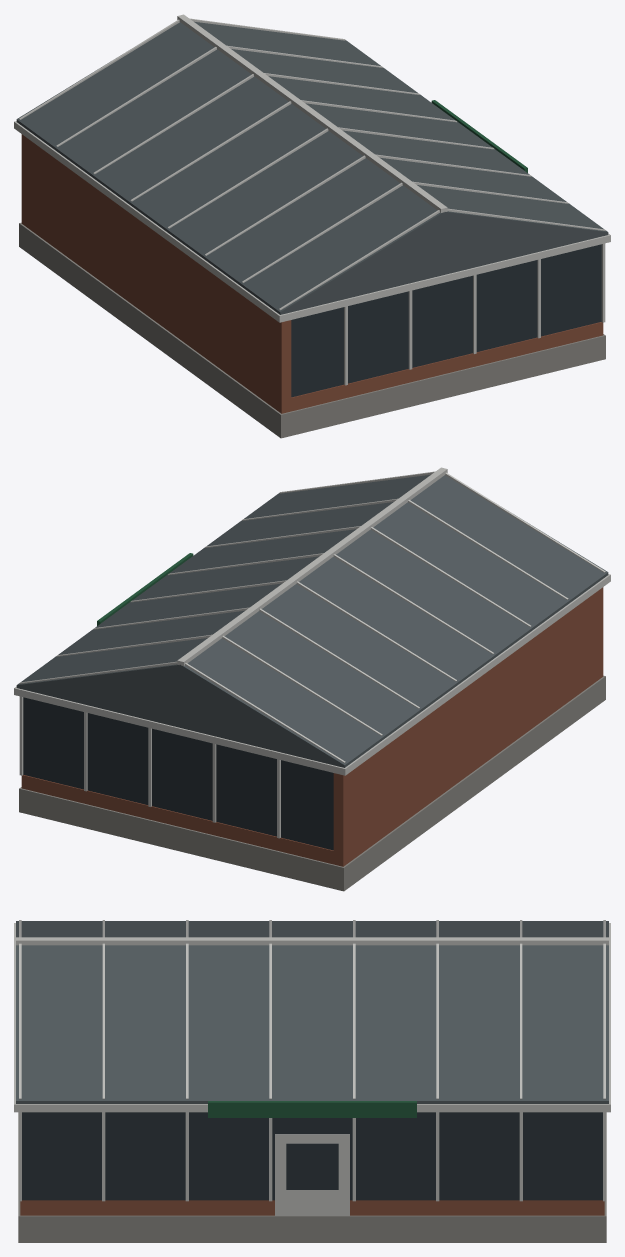
Rendered from SM_Prop_cafe_building_10_LOD1.glb.
The picture shows the model from 3 angles, top to bottom: view 1: azimuth 30°, elevation 25°; view 2: azimuth 150°, elevation 25°; view 3: azimuth 270°, elevation 25°; orthographic projection. The views are drawn at different scales.
Visible parts, largest first — view 1: SM_Prop_cafe_building_10_LOD1; view 2: SM_Prop_cafe_building_10_LOD1; view 3: SM_Prop_cafe_building_10_LOD1.
Boxes of the visible parts, box(x1,y1,x2,y2) form: SM_Prop_cafe_building_10_LOD1: box(14, 14, 610, 438); SM_Prop_cafe_building_10_LOD1: box(14, 467, 610, 891); SM_Prop_cafe_building_10_LOD1: box(14, 920, 610, 1242).
Size of the model in its own units: 10.4 by 5.68 by 14.3.
